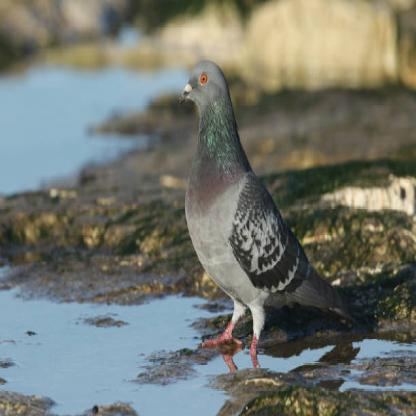Rock Pigeon: (176, 55, 351, 365)
